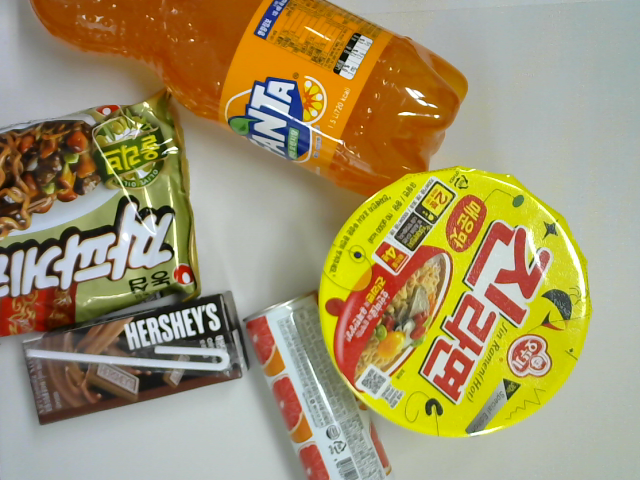Demisoda_Grapefruit_Can_250ml: (246, 288, 398, 480)
Hush_Choco_Drink: (20, 290, 251, 428)
Hwanta_Orange_1.5L: (31, 1, 470, 198)
Jinlamyeon_Hot_Taste_Large_Cup: (316, 166, 594, 442)
Olive_Chapaghetti: (1, 87, 205, 341)
